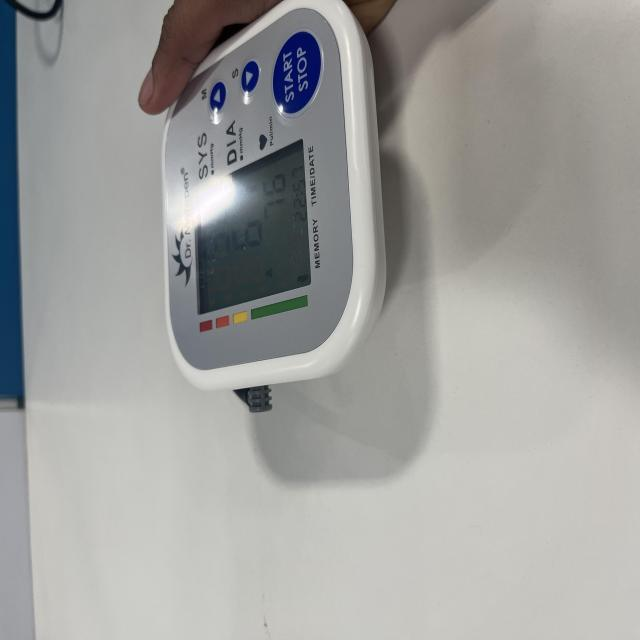bp: (159, 0, 386, 395)
